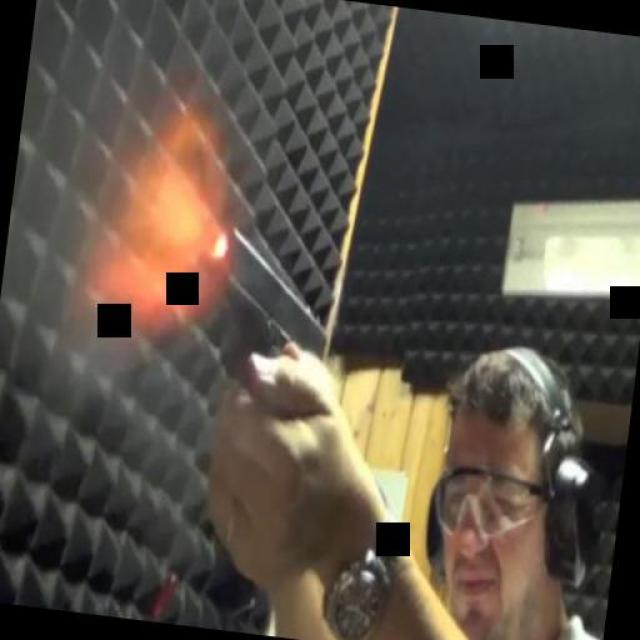gun: (174, 206, 344, 412)
